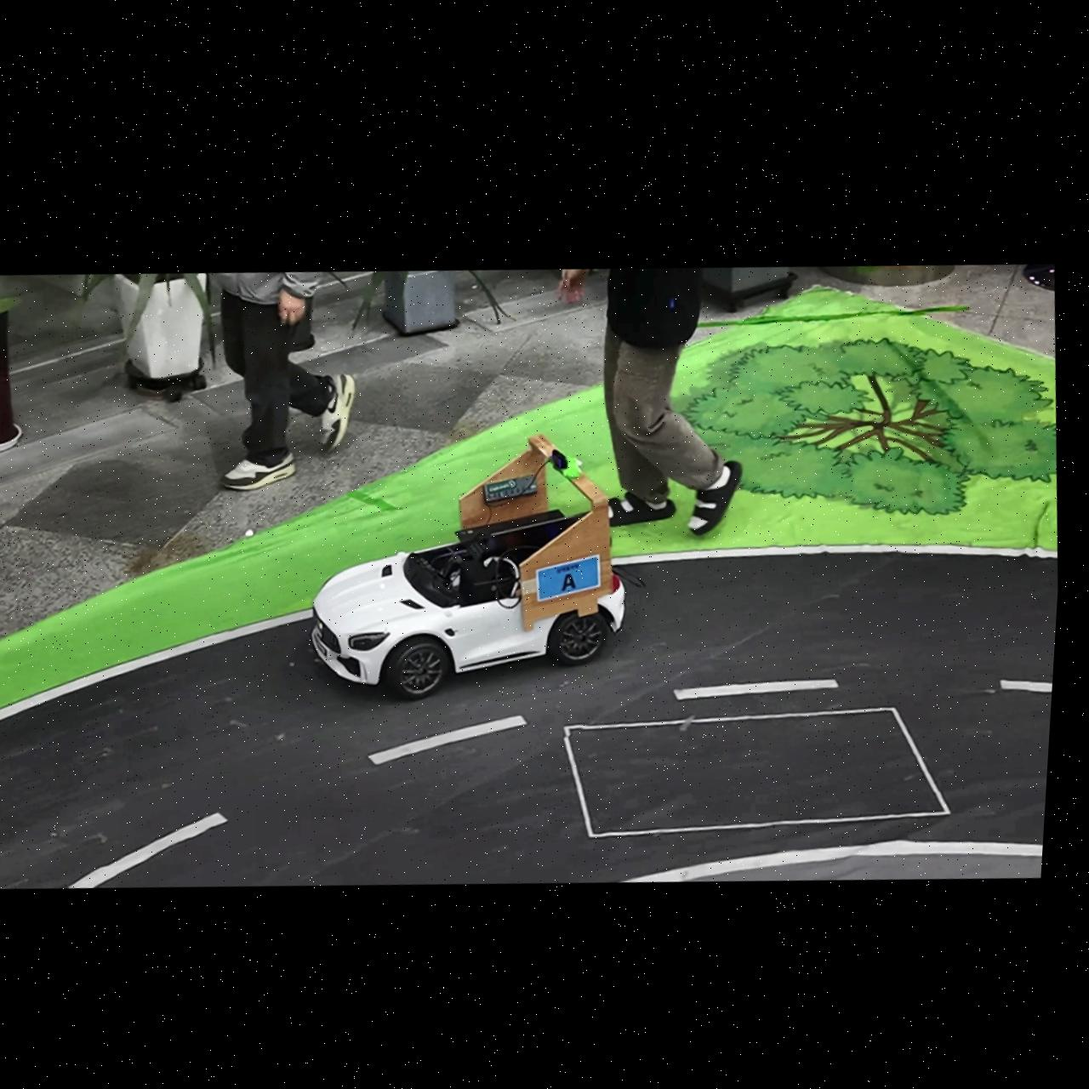broken_line: (68, 813, 227, 888), (369, 716, 526, 765), (674, 679, 838, 699), (1000, 680, 1052, 692)
